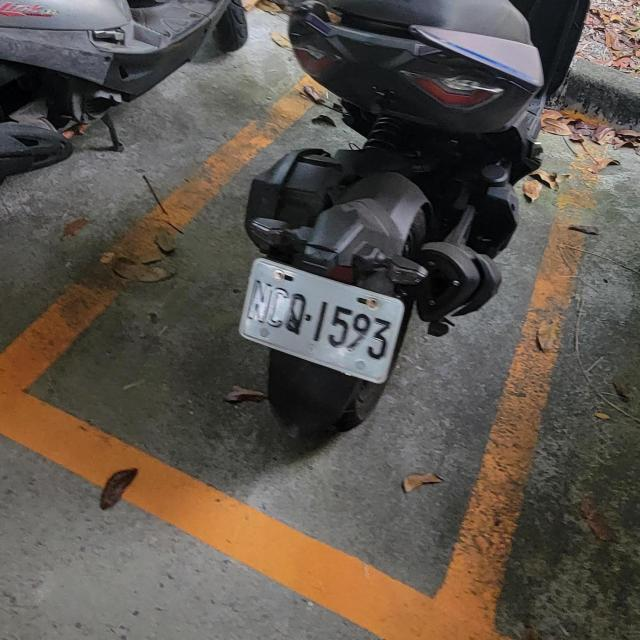W: (235, 257, 409, 386)
